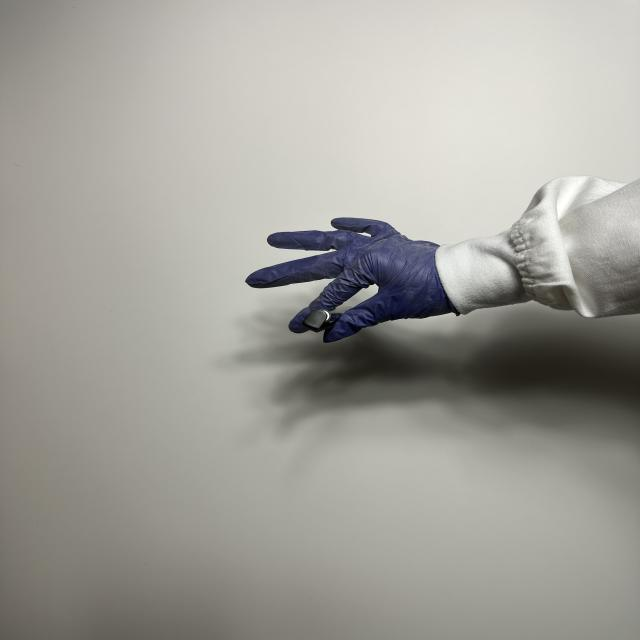gloves_contaminated: (246, 219, 458, 342)
